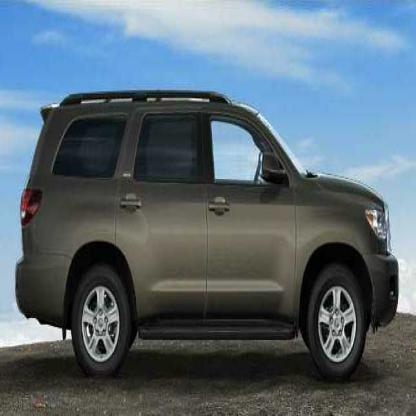Vehicle: (13, 87, 399, 386)
